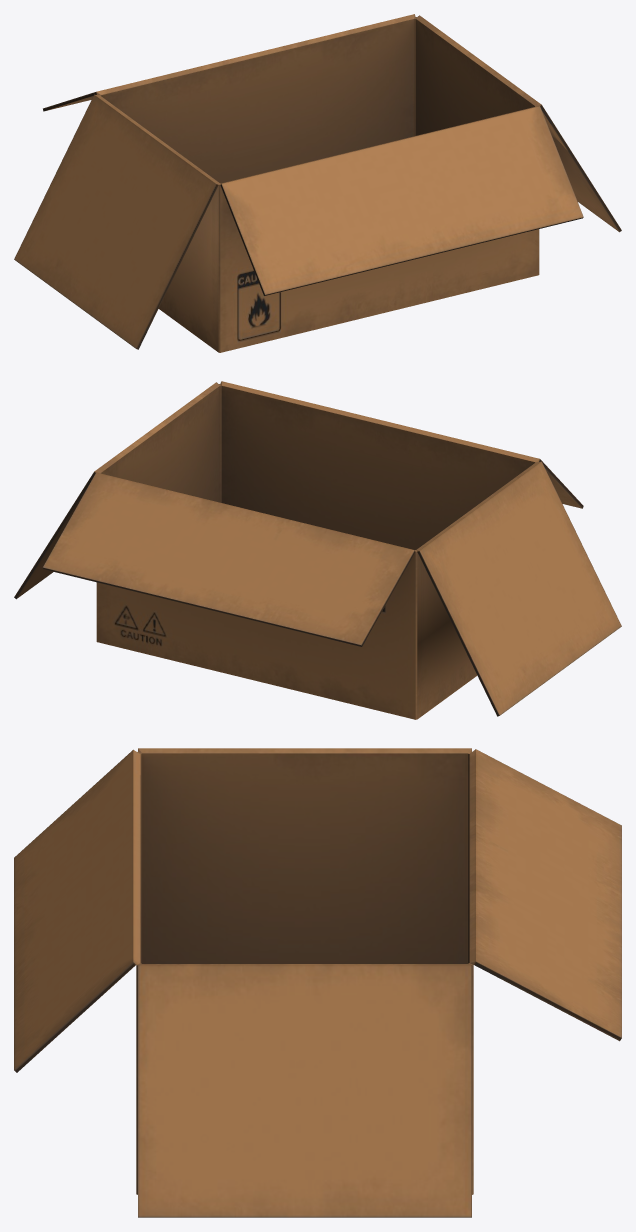
The model's file is Cardboard.fbx.
3 views of the same model, one above another, from view 1: azimuth 30°, elevation 25°; view 2: azimuth 150°, elevation 25°; view 3: azimuth 270°, elevation 25° (orthographic). The views are drawn at different scales.
Parts seen in each view (by area): view 1: Cardbox; view 2: Cardbox; view 3: Cardbox.
Part boxes in pixels (x1,y1,x2,y2): Cardbox: (14, 14, 621, 352); Cardbox: (14, 381, 621, 719); Cardbox: (14, 748, 621, 1217).
Bounding box in the file's own units: 90.87 × 30.43 × 72.07.
Materials: 1 (1 with a texture image).
